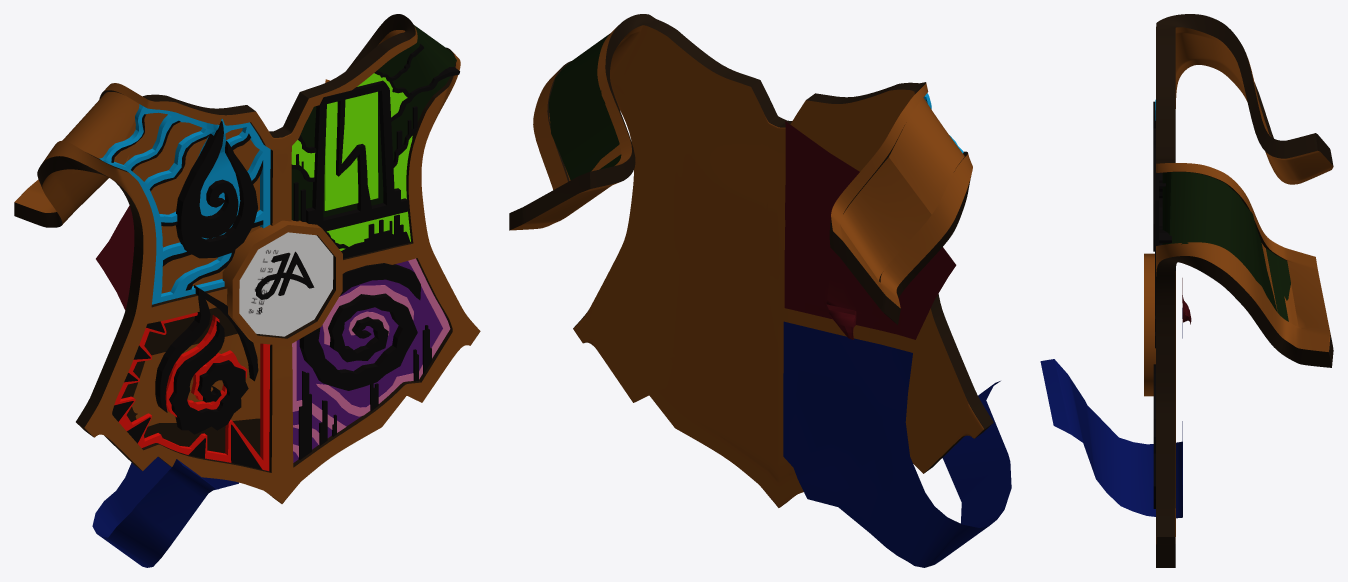
Rendered from Shield.FBX.
3 renders of one model, left to right at view 1: azimuth 30°, elevation 25°; view 2: azimuth 150°, elevation 25°; view 3: azimuth 270°, elevation 25°, orthographic. The views are drawn at different scales.
Parts seen in each view (by area): view 1: Shield_BackUp002, JA_SolidOutlines, BackDrops, BackDrops001, Object008, Object009, JA_PlainCover, Object004, Cylinder001, Object002, JASymbol; view 2: Shield_BackUp002, BackDrops001, BackDrops; view 3: Shield_BackUp002, BackDrops, BackDrops001, JA_SolidOutlines, Cylinder001.
Part boxes in pixels (<box>): Shield_BackUp002: <box>14,14,480,503</box>; JA_SolidOutlines: <box>111,44,459,469</box>; BackDrops: <box>291,25,456,462</box>; BackDrops001: <box>92,205,238,567</box>; Object008: <box>99,104,270,304</box>; Object009: <box>291,73,412,250</box>; JA_PlainCover: <box>239,232,333,336</box>; Object004: <box>114,312,270,470</box>; Cylinder001: <box>222,220,342,346</box>; Object002: <box>292,258,450,457</box>; JASymbol: <box>255,251,314,313</box>; Shield_BackUp002: <box>509,14,993,507</box>; BackDrops001: <box>783,121,1011,567</box>; BackDrops: <box>549,34,621,179</box>; Shield_BackUp002: <box>1156,14,1333,567</box>; BackDrops: <box>1162,172,1290,321</box>; BackDrops001: <box>1040,278,1191,518</box>; JA_SolidOutlines: <box>1153,101,1171,508</box>; Cylinder001: <box>1144,253,1155,396</box>.
Size of the model in its own units: 98.14 by 107 by 56.26.
